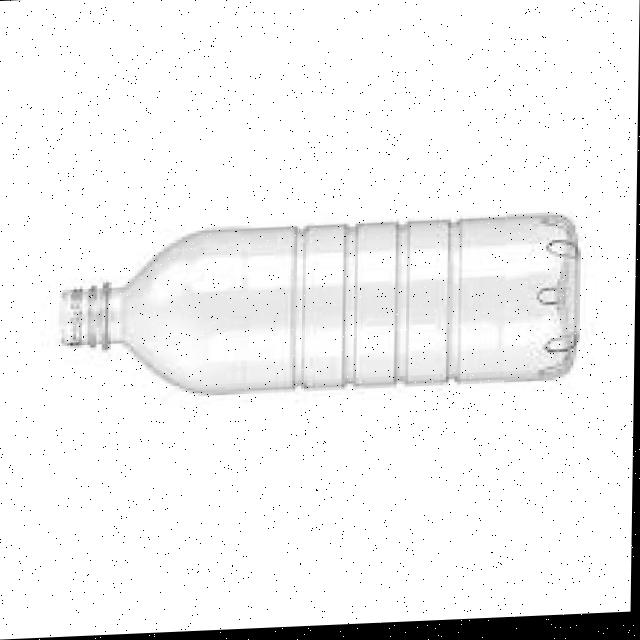bottle: (48, 162, 630, 429)
